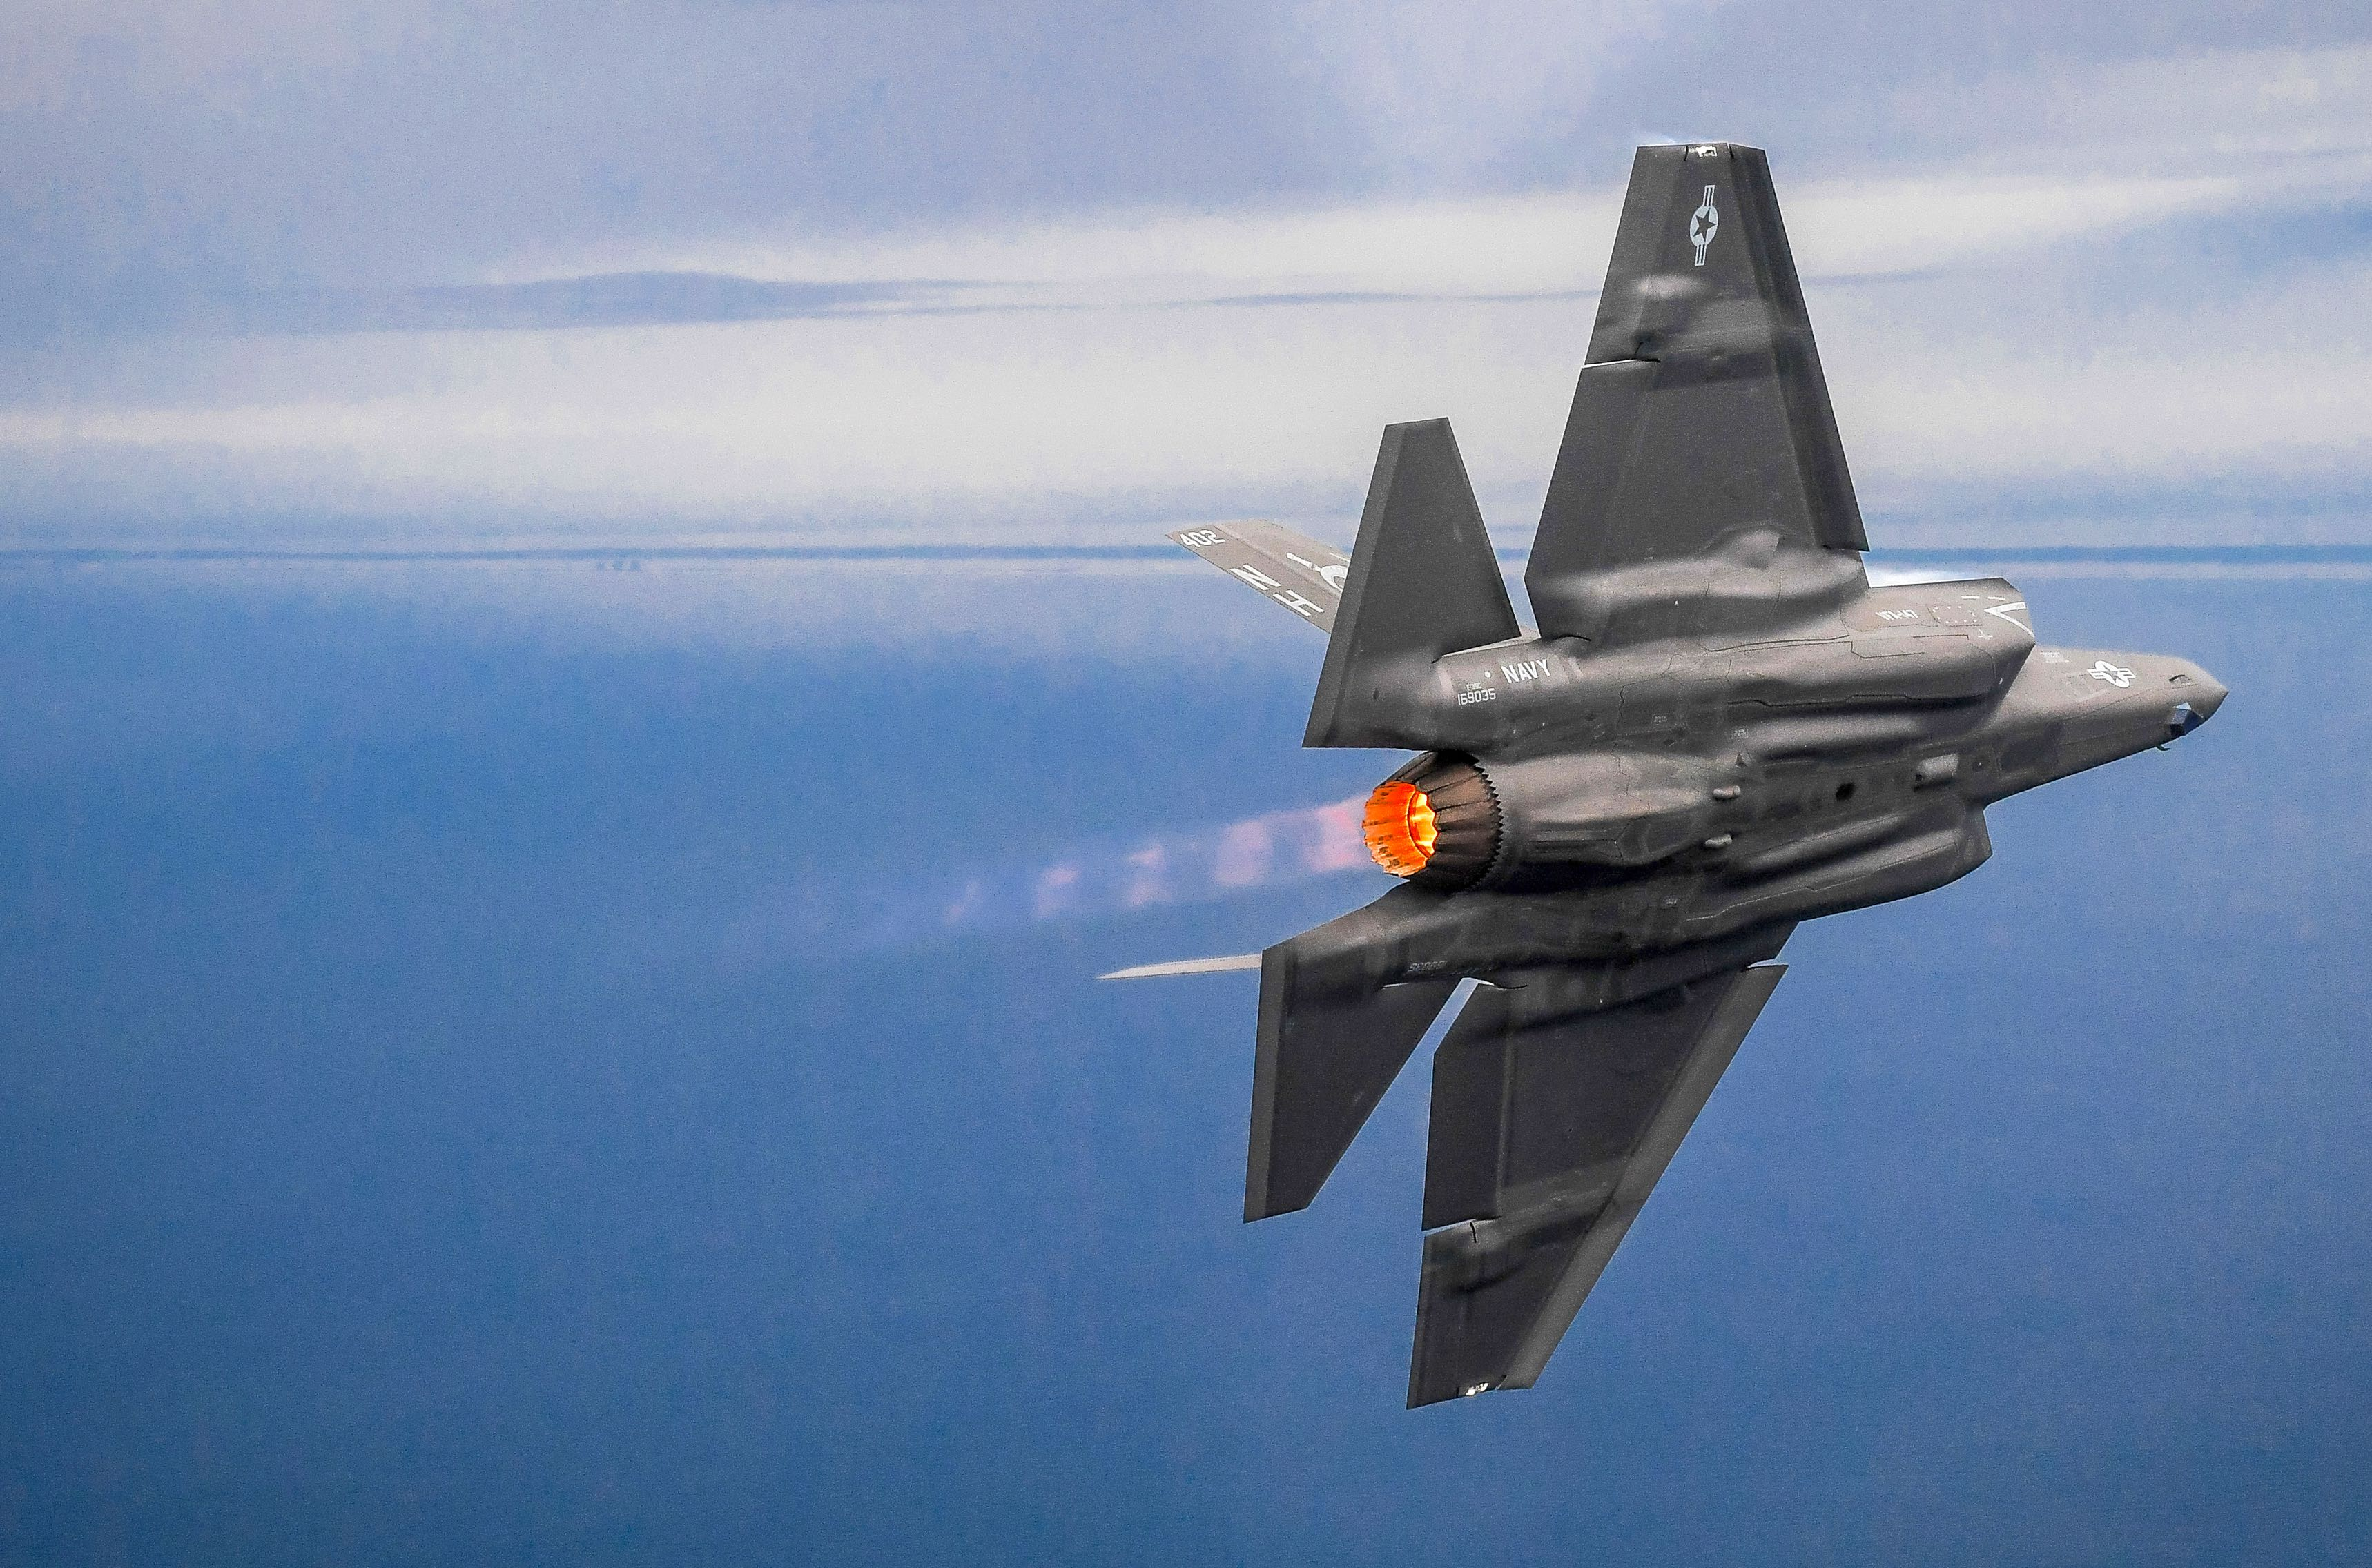F-35 Lightning: (1157, 73, 2251, 1440)
